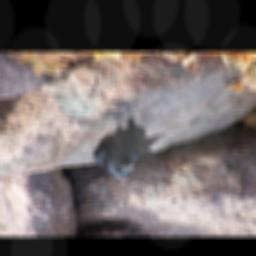Crow: (92, 98, 173, 182)
